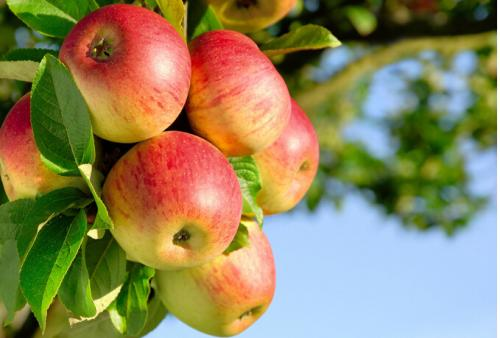apple: (103, 130, 242, 272)
obscured(0)_apple: (57, 4, 191, 143), (182, 30, 291, 155)
obscured(1)_apple: (152, 205, 277, 337)
obscured(2)_apple: (220, 90, 320, 214)
